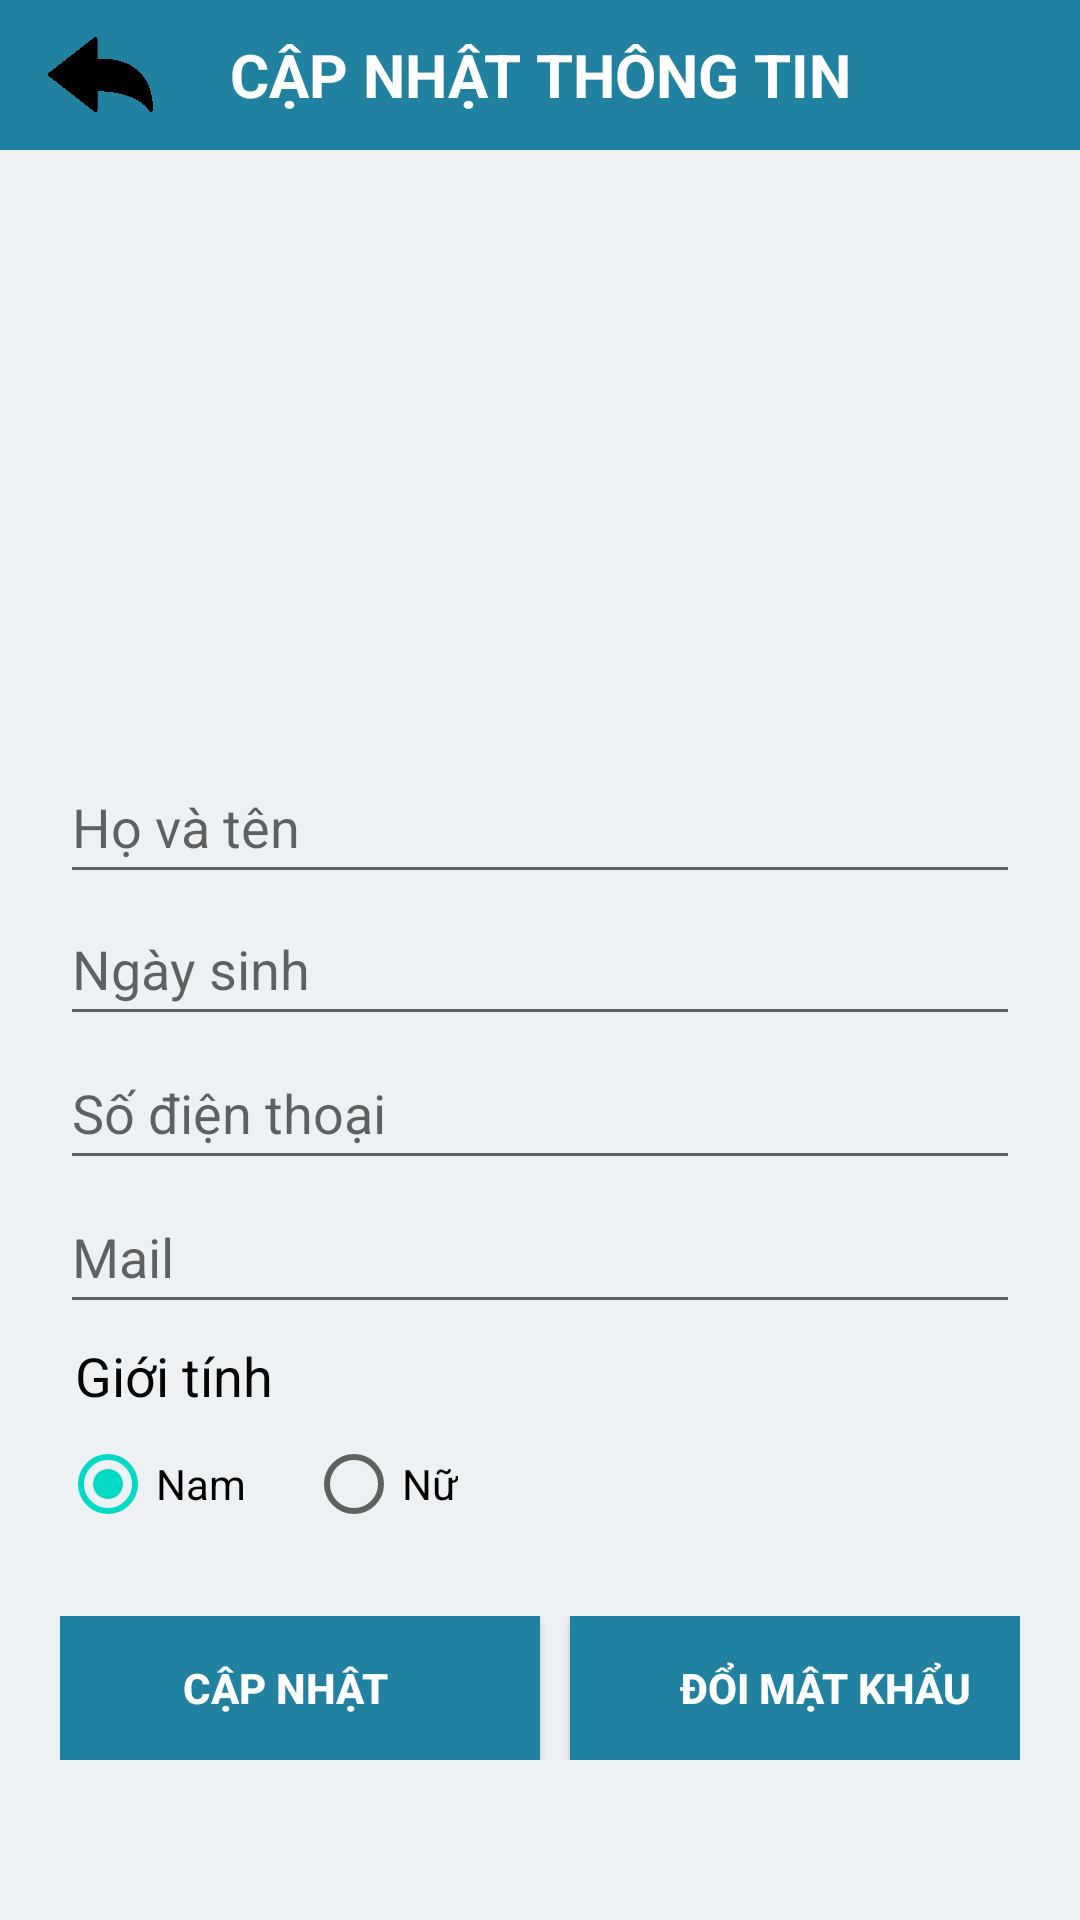

Where icons sit on this 1080x1920 app screen, as (x1, y1, x2, y2):
quaylai: (48, 37, 153, 112)
